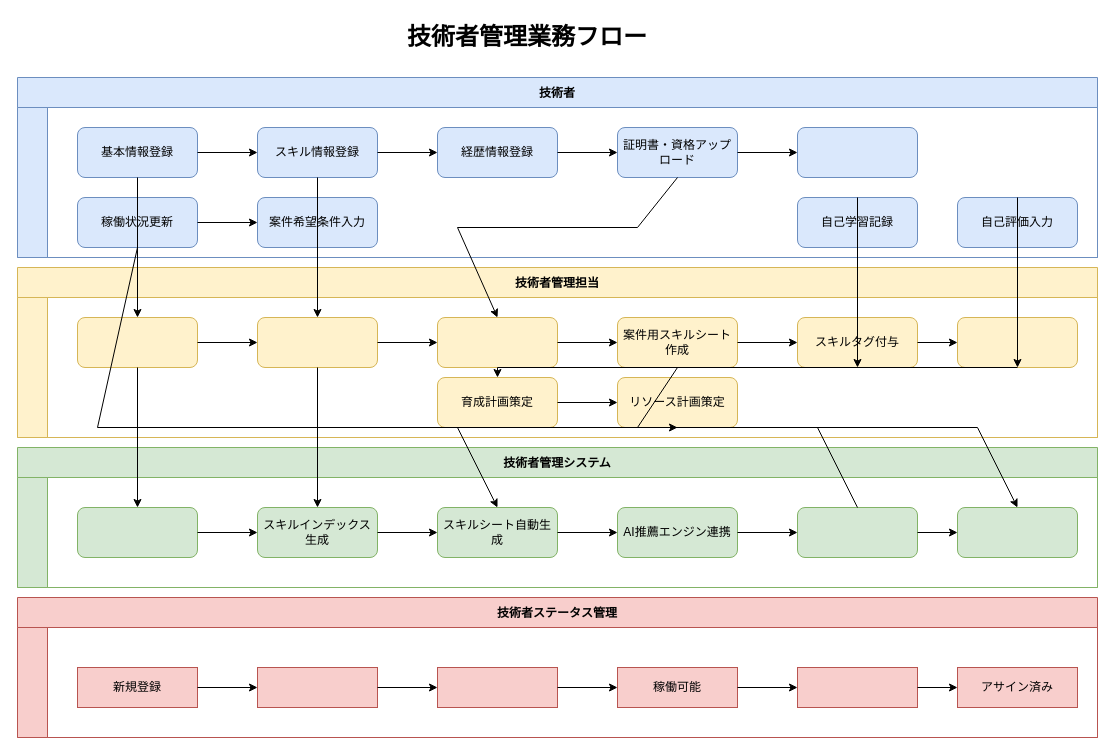
The diagram is 1115 pixels wide and 755 high, and some of its shapes have lost their labels. The shapes that lost their labels are listed below. From the top down, each one's box as (x1, y1, x2, y2) in pixels, then its label:
(796, 126, 918, 178): 定期的な情報更新
(76, 316, 198, 368): プロフィール確認・承認
(256, 316, 378, 368): スキル評価
(436, 316, 558, 368): 証明書・資格確認
(956, 316, 1078, 368): 技術者評価実施
(76, 506, 198, 558): 技術者情報DB登録
(796, 506, 918, 558): スキル分析・レポート
(956, 506, 1078, 558): 稼働状況DB更新
(256, 666, 378, 708): プロフィール完成
(436, 666, 558, 708): 情報検証済み
(796, 666, 918, 708): 案件提案中
